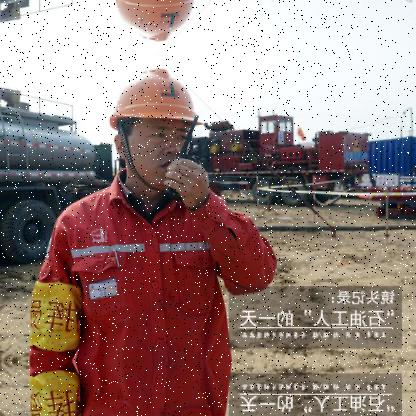helmet: (95, 60, 211, 188), (94, 0, 211, 47)
